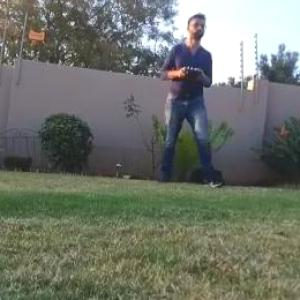follow: (154, 5, 228, 195)
